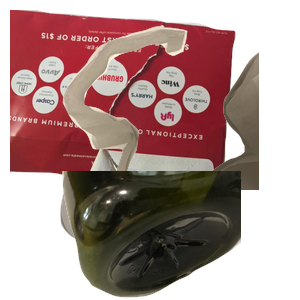glass: (58, 170, 202, 300)
paper: (10, 10, 238, 190)
plastic: (60, 171, 300, 300)
trash: (60, 23, 300, 203)
